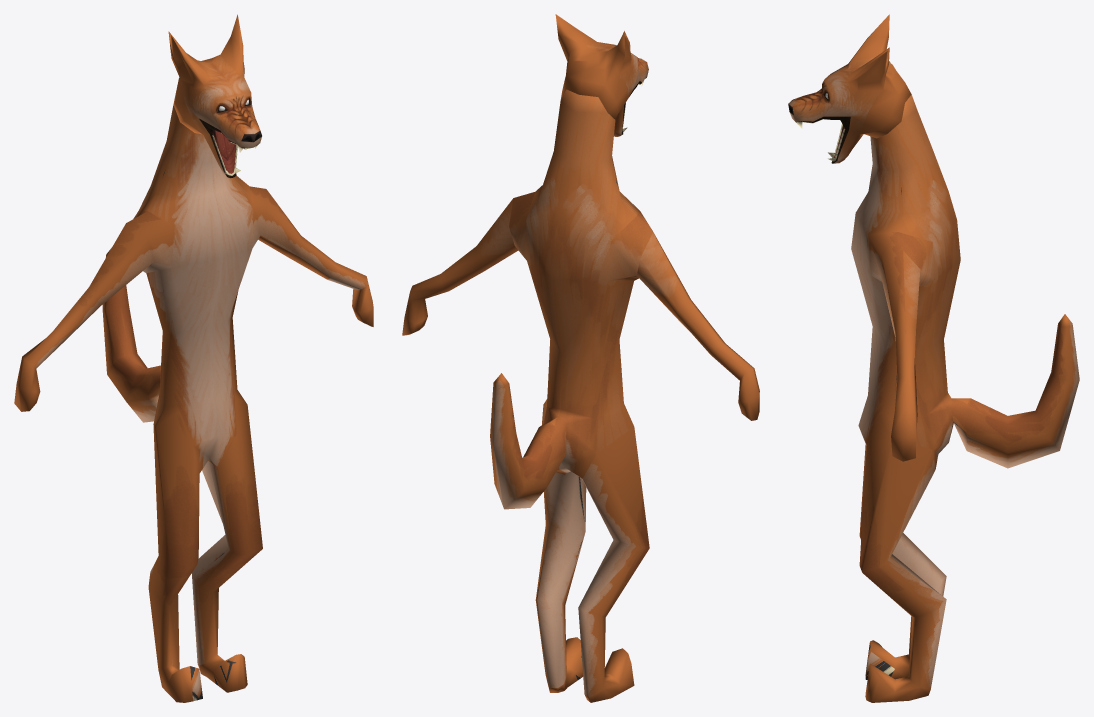
File: Dingo_Walker_ColourWIP.fbx
3 views of the same model, side by side, from view 1: azimuth 30°, elevation 25°; view 2: azimuth 150°, elevation 25°; view 3: azimuth 270°, elevation 25° (orthographic).
Parts seen in each view (by area): view 1: Yeah_ok; view 2: Yeah_ok; view 3: Yeah_ok.
Boxes of the visible parts, <box> form: Yeah_ok: <box>14,14,373,702</box>; Yeah_ok: <box>402,14,759,702</box>; Yeah_ok: <box>788,14,1079,702</box>.
Size of the model in its own units: 110 by 198 by 79.95.
